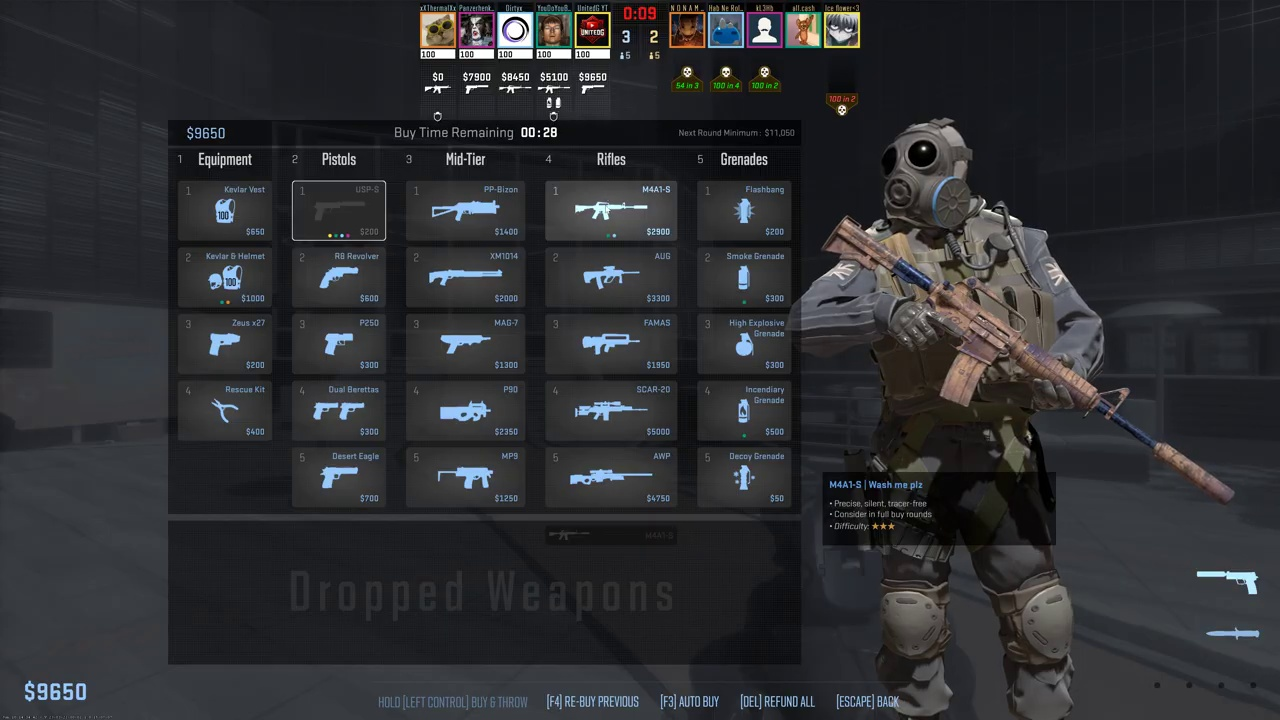CT: (849, 120, 1084, 720)
